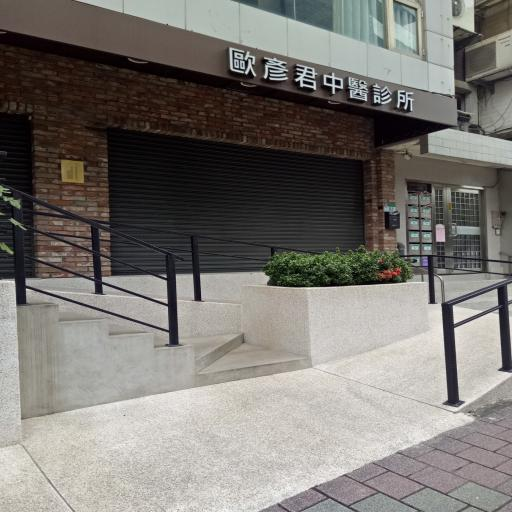ramp: (310, 322, 512, 412)
